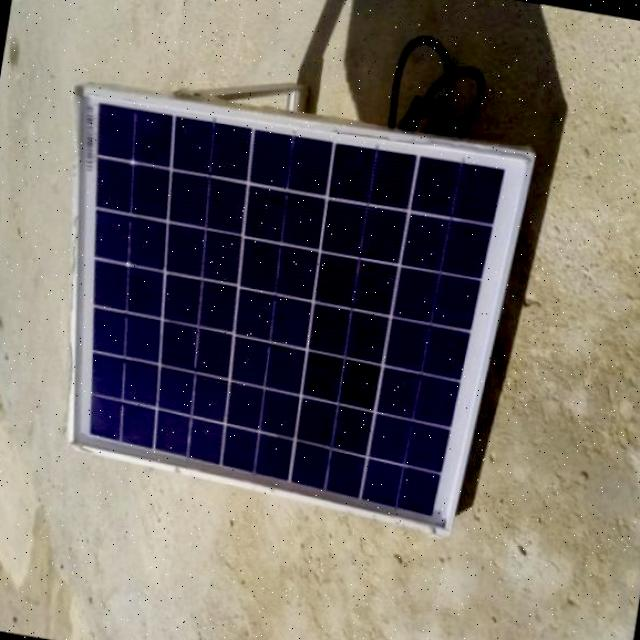Normal Solar Panel: (19, 80, 540, 536)
